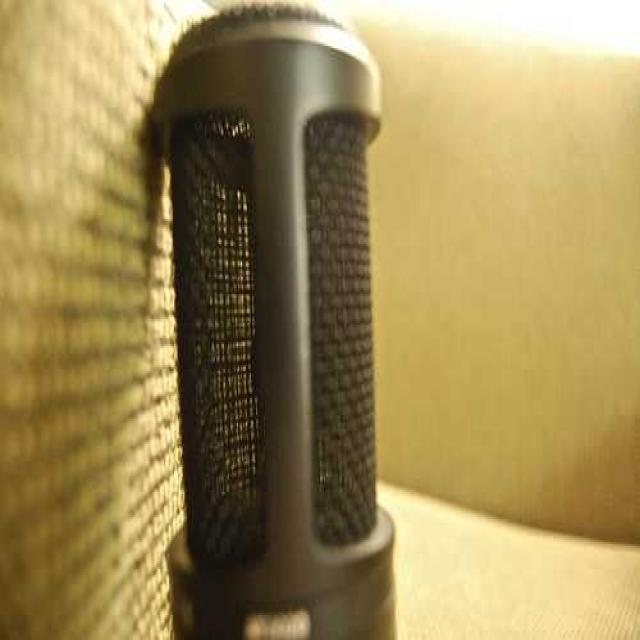microphone: (150, 7, 394, 636)
